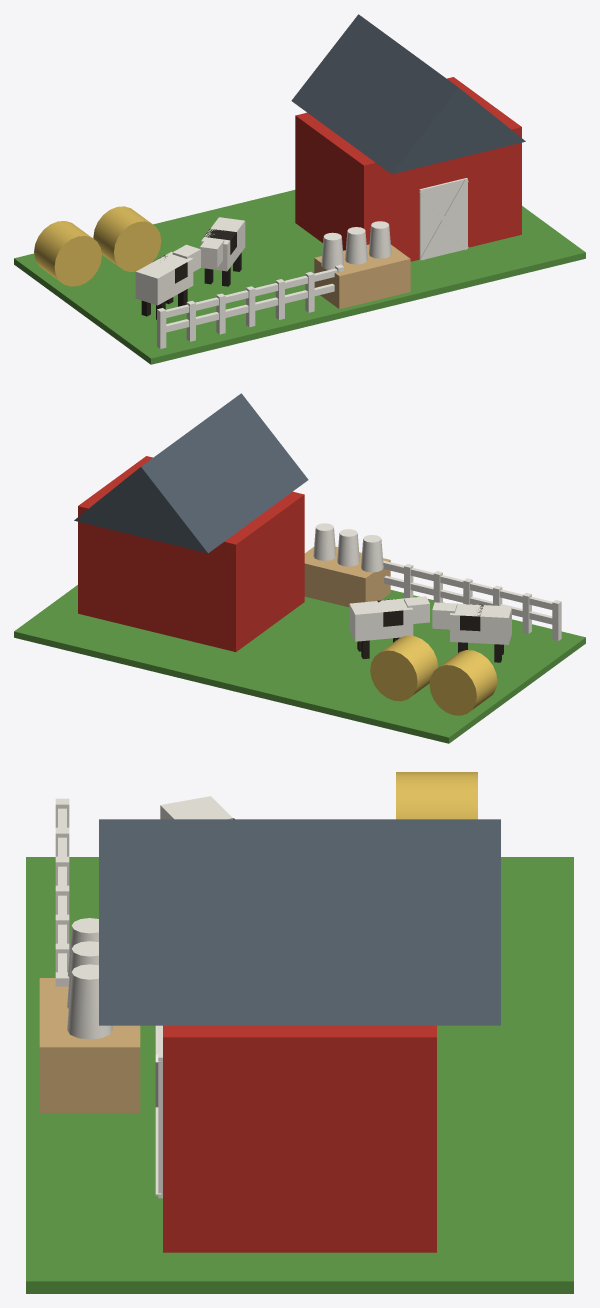
File: farm.glb
3 renders of one model, top to bottom at view 1: azimuth 30°, elevation 25°; view 2: azimuth 150°, elevation 25°; view 3: azimuth 270°, elevation 25°, orthographic. The views are drawn at different scales.
Visible parts, largest first — view 1: grass, slate, red, white, hay, wood, black; view 2: grass, red, slate, white, hay, wood, black; view 3: grass, slate, red, wood, white, hay.
Boxes of the visible parts, x1=… form: grass: x1=14, y1=190, x2=585, y2=364; slate: x1=291, y1=14, x2=525, y2=174; red: x1=295, y1=77, x2=521, y2=261; white: x1=135, y1=178, x2=468, y2=348; hay: x1=34, y1=206, x2=161, y2=286; wood: x1=314, y1=244, x2=410, y2=309; black: x1=141, y1=228, x2=241, y2=319; grass: x1=14, y1=585, x2=585, y2=743; red: x1=78, y1=456, x2=304, y2=651; slate: x1=74, y1=393, x2=308, y2=553; white: x1=313, y1=523, x2=561, y2=644; hay: x1=370, y1=635, x2=497, y2=715; wood: x1=304, y1=546, x2=390, y2=607; black: x1=357, y1=599, x2=503, y2=662; grass: x1=26, y1=857, x2=573, y2=1293; slate: x1=99, y1=819, x2=500, y2=1025; red: x1=163, y1=1025, x2=436, y2=1252; wood: x1=39, y1=978, x2=140, y2=1113; white: x1=55, y1=796, x2=232, y2=1198; hay: x1=396, y1=772, x2=477, y2=819.
Size of the model in its own units: 222 by 89 by 120.
